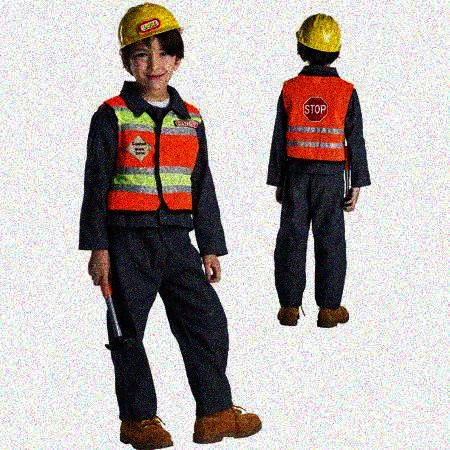helmet: (114, 1, 186, 89), (294, 10, 344, 69)
